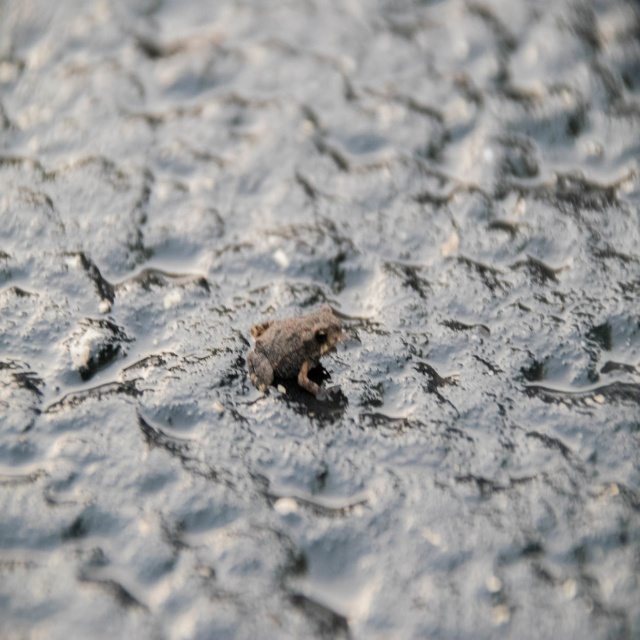Frog: (246, 304, 342, 401)
